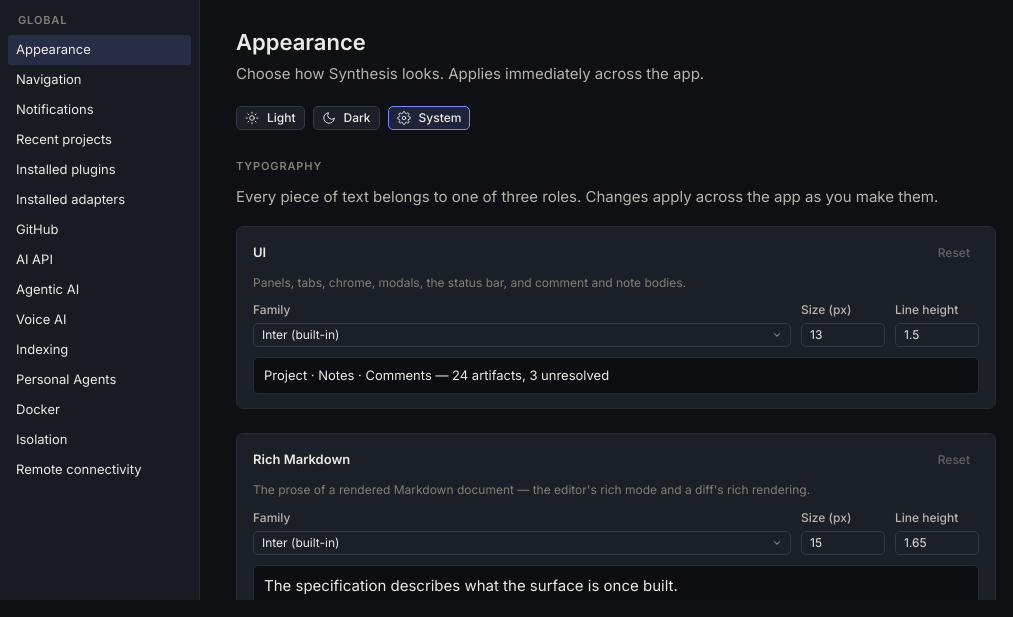
Test: Recent projects section (GLS-FR-06..06) › renders entries in the order returned, pinned first (GLS-FR-06)
Click the tab "Recent projects" at (100, 140), box [8, 124, 191, 154]
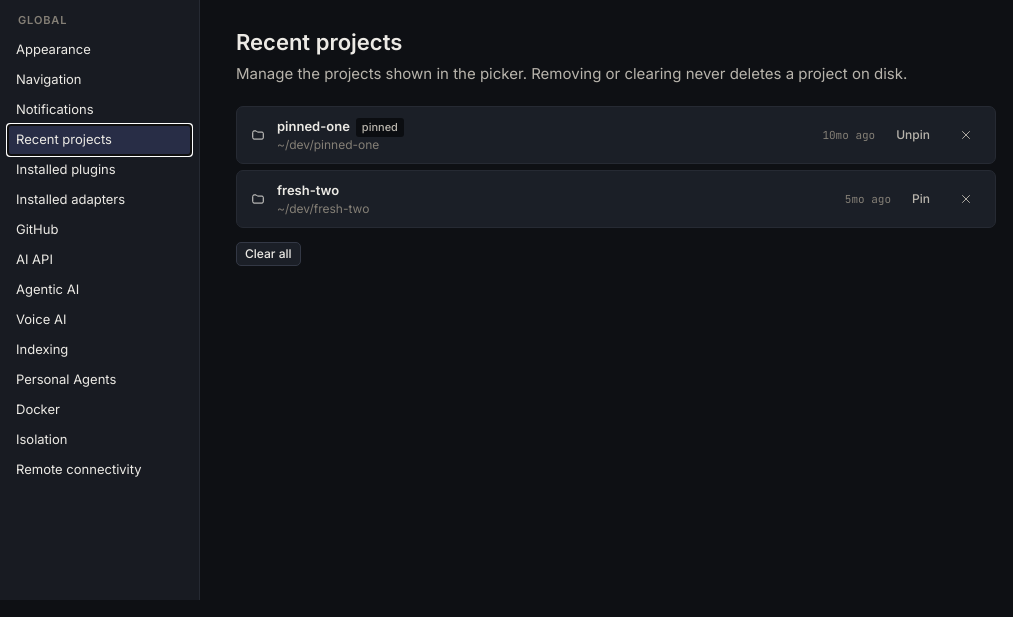
Expected: the number of elements with test id "recent-row" is 2, [236, 106, 996, 164]; [236, 170, 996, 228]
Expected: the text "pinned-one" is shown, [277, 118, 350, 134]
Expected: the text "pinned" is shown, [356, 118, 404, 137]
